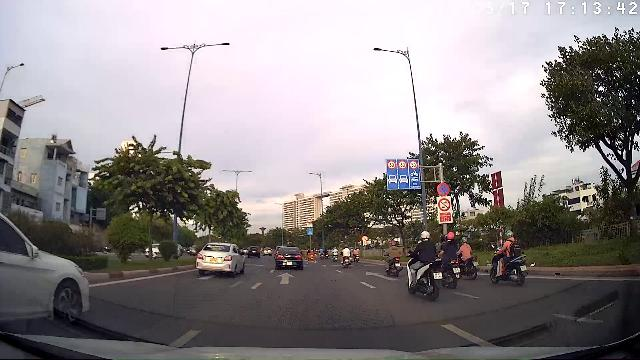127-toc-do-toi-da-50: (409, 160, 418, 170)
127-toc-do-toi-da-60: (398, 160, 407, 170), (387, 160, 396, 170)
130-cam-dung-va-do-xe: (437, 183, 450, 196)
